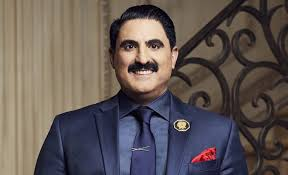middle_eastern_male: (111, 13, 186, 101)
